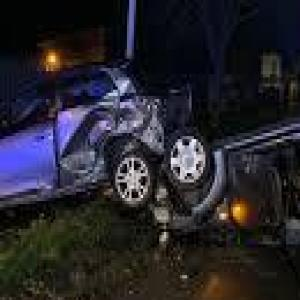severe: (0, 59, 300, 260)
